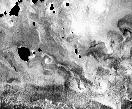AE: (42, 53, 53, 65)
